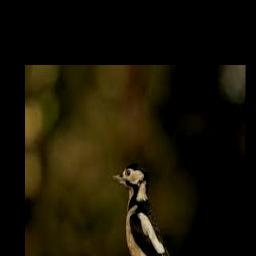Woodpecker: (111, 164, 175, 256)
